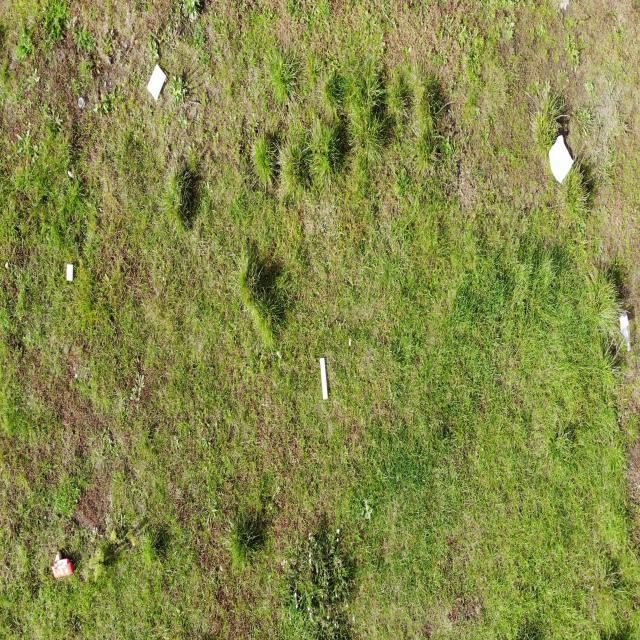rubbish: (549, 135, 574, 185), (146, 63, 167, 101), (50, 557, 75, 579), (619, 310, 631, 352), (318, 357, 328, 400), (67, 263, 74, 283), (78, 98, 85, 108)
